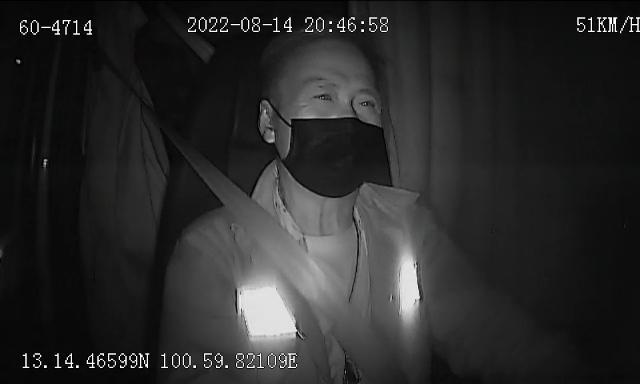SafeDriving: (350, 90, 384, 114), (304, 83, 338, 105)
Seatbelt: (177, 140, 369, 384)
